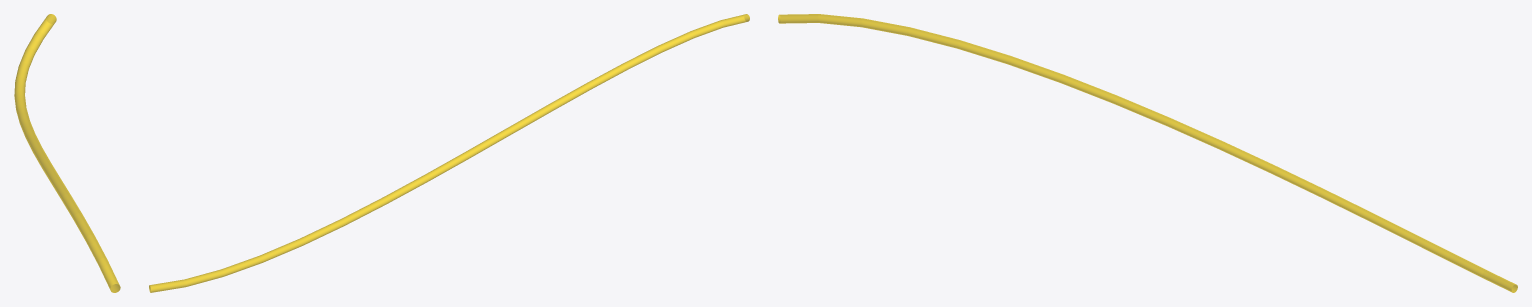
The model's file is Event_84804159_track_72.fbx.
3 views of the same model, side by side, from view 1: azimuth 90°, elevation 25°; view 2: azimuth 210°, elevation 25°; view 3: azimuth 330°, elevation 25° (orthographic). The views are drawn at different scales.
Parts seen in each view (by area): view 1: Model; view 2: Model; view 3: Model.
Boxes of the visible parts, left/top/right/bottom form: Model: left=14, top=14, right=120, bottom=292; Model: left=149, top=14, right=749, bottom=292; Model: left=778, top=14, right=1517, bottom=292.
Bounding box in the file's own units: 3.64 × 0.6414 × 0.3997.
